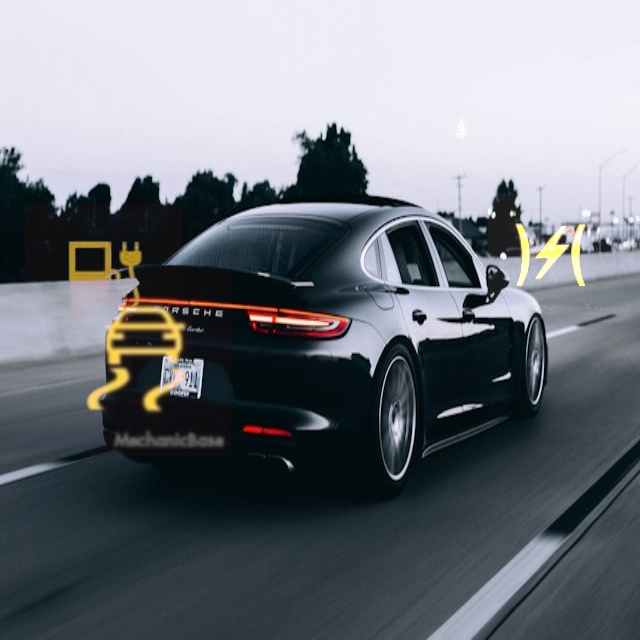symbol: (40, 265, 231, 456), (25, 204, 182, 361), (488, 193, 614, 319), (399, 72, 524, 197)
